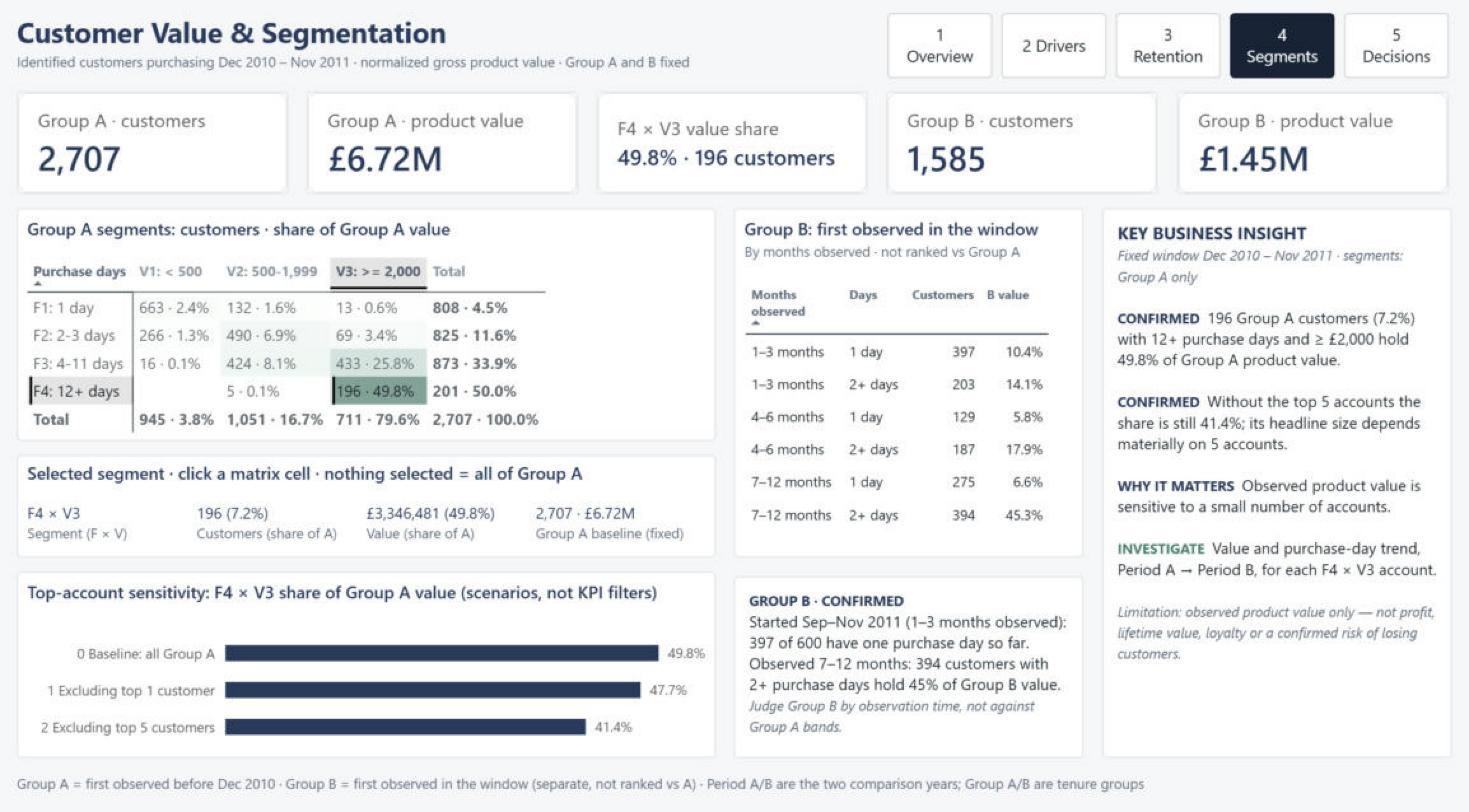

Layout of this report page (visuals, bound fields, positions):
{"tool":"powerbi","page":{"name":"4 Segments","canvas":[1280,720],"ordinal":3},"visuals":[{"type":"textbox","box":[24,24,740,56],"z":10},{"type":"pageNavigator","box":[772,24,484,56],"z":22},{"type":"cardVisual","fields":{"Data":["_Measures.Card Group A Customers"]},"box":[24,92,233,88],"z":30},{"type":"cardVisual","fields":{"Data":["_Measures.Card Group A Value"]},"box":[273,92,233,88],"z":31},{"type":"cardVisual","fields":{"Data":["_Measures.Card F4 x V3 Share"]},"box":[522,92,233,88],"z":32},{"type":"cardVisual","fields":{"Data":["_Measures.Card Group B Customers"]},"box":[771,92,233,88],"z":33},{"type":"cardVisual","fields":{"Data":["_Measures.Card Group B Value"]},"box":[1020,92,233,88],"z":34},{"type":"pivotTable","title":"Group A segments: customers · share of Group A value","fields":{"Rows":["dim_customer.frequency_band_window"],"Columns":["dim_customer.value_tier_window"],"Values":["_Measures.Segment Cell"]},"box":[24,192,600,200],"z":40},{"type":"clusteredBarChart","title":"Top-account sensitivity: F4 × V3 share of Group A value (scenarios, not KPI filters)","fields":{"Category":["ref_top_account_sensitivity.scenario"],"Y":["_Measures.Sensitivity F4 x V3 Share"]},"box":[24,504,600,160],"z":41},{"type":"tableEx","title":"Group B: first observed in the window","fields":{"Values":["p4_groupb_line.months_observed","p4_groupb_line.purchase_days","_Measures.Group B Line Customers","_Measures.Group B Line Value Share"]},"box":[640,192,300,300],"z":42},{"type":"textbox","box":[640,508,300,156],"z":43},{"type":"multiRowCard","title":"Selected segment · click a matrix cell · nothing selected = all of Group A","fields":{"Values":["_Measures.Selected Segment","_Measures.Selected Segment Customers","_Measures.Selected Segment Value","_Measures.Group A Baseline"]},"box":[24,404,600,88],"z":44},{"type":"textbox","box":[956,192,300,472],"z":50},{"type":"textbox","box":[24,676,1232,20],"z":60}]}

Visuals, with their boxes in screenshot pixels (x1, y1, x2, y2), scaled from the page's 1280x720 canvas onto the 1469x812 screenshot:
textbox: box(28, 27, 877, 90)
pageNavigator: box(886, 27, 1441, 90)
cardVisual - _Measures.Card Group A Customers: box(28, 104, 295, 203)
cardVisual - _Measures.Card Group A Value: box(313, 104, 581, 203)
cardVisual - _Measures.Card F4 x V3 Share: box(599, 104, 866, 203)
cardVisual - _Measures.Card Group B Customers: box(885, 104, 1152, 203)
cardVisual - _Measures.Card Group B Value: box(1171, 104, 1438, 203)
"Group A segments: customers · share of Group A value" pivotTable: box(28, 217, 716, 442)
"Top-account sensitivity: F4 × V3 share of Group A value (scenarios, not KPI filters)" clusteredBarChart: box(28, 568, 716, 749)
"Group B: first observed in the window" tableEx: box(734, 217, 1079, 555)
textbox: box(734, 573, 1079, 749)
"Selected segment · click a matrix cell · nothing selected = all of Group A" multiRowCard: box(28, 456, 716, 555)
textbox: box(1097, 217, 1441, 749)
textbox: box(28, 762, 1441, 785)
